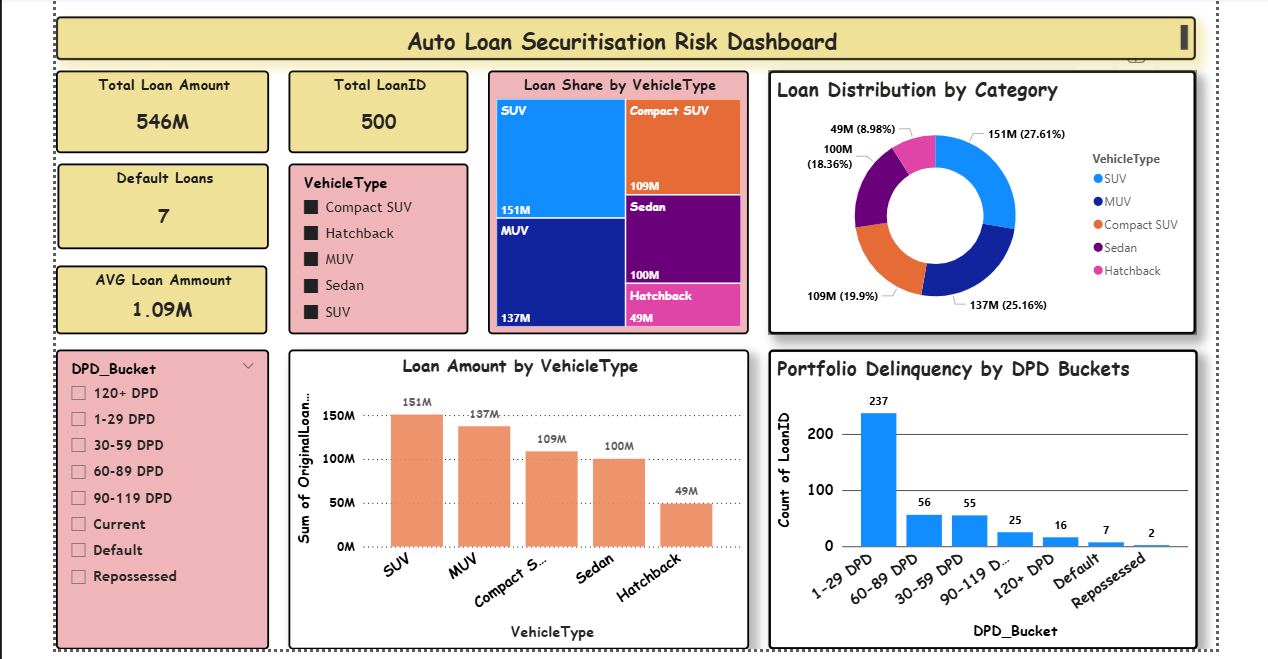

Layout of this report page (visuals, bound fields, positions):
{"tool":"powerbi","page":{"name":"Page 1","canvas":[1280,720],"ordinal":0},"visuals":[{"type":"card","title":"Total Loan Amount","fields":{"Values":["auto_loan_securitisation_data.total_loan_amount"]},"box":[0,81.2,235.2,91.1],"z":0},{"type":"card","title":"Total LoanID","fields":{"Values":["CountNonNull(auto_loan_securitisation_data.LoanID)"]},"box":[256.8,81.2,198.8,91.1],"z":1000},{"type":"clusteredColumnChart","title":"Portfolio Delinquency by DPD Buckets","fields":{"Y":["Count(dpd_snapshot_history.LoanID)"],"Category":["dpd_snapshot_history.DPD_Bucket"]},"box":[786.8,389.3,473.8,331.3],"z":2000},{"type":"donutChart","title":"Loan Distribution by Category","fields":{"Category":["auto_loan_securitisation_data.VehicleType"],"Y":["auto_loan_securitisation_data.total_loan_amount"]},"box":[786.8,81.2,472.1,291.5],"z":3000},{"type":"textbox","box":[0,21.5,1258.9,48],"z":4000},{"type":"card","title":"AVG  Loan Ammount","fields":{"Values":["Avg(auto_loan_securitisation_data.OriginalLoanAmount)"]},"box":[0,296.5,233.6,76.2],"z":5000},{"type":"card","title":"Default Loans","fields":{"Values":["auto_loan_securitisation_data.defaultloan"]},"box":[1.7,183.9,233.6,94.4],"z":6000},{"type":"slicer","fields":{"Values":["auto_loan_securitisation_data.VehicleType"]},"box":[256.8,183.9,198.8,188.8],"z":6001},{"type":"slicer","fields":{"Values":["dpd_snapshot_history.DPD_Bucket"]},"box":[0,389.3,235.2,331.3],"z":6002},{"type":"clusteredColumnChart","title":"Loan Amount by VehicleType","fields":{"Category":["auto_loan_securitisation_data.VehicleType"],"Y":["Sum(auto_loan_securitisation_data.OriginalLoanAmount)"]},"box":[256.8,389.3,508.5,331.3],"z":6003},{"type":"treemap","title":"Loan Share by VehicleType","fields":{"Group":["auto_loan_securitisation_data.VehicleType"],"Values":["Sum(auto_loan_securitisation_data.OriginalLoanAmount)"]},"box":[477.1,81.2,288.2,291.5],"z":6004}]}

Visuals, with their boxes in screenshot pixels (x1, y1, x2, y2):
"Total Loan Amount" card: [left=53, top=67, right=266, bottom=149]
"Total LoanID" card: [left=285, top=67, right=465, bottom=149]
"Portfolio Delinquency by DPD Buckets" clusteredColumnChart: [left=765, top=346, right=1193, bottom=645]
"Loan Distribution by Category" donutChart: [left=765, top=67, right=1192, bottom=331]
textbox: [left=53, top=13, right=1192, bottom=56]
"AVG  Loan Ammount" card: [left=53, top=262, right=264, bottom=331]
"Default Loans" card: [left=54, top=160, right=266, bottom=245]
slicer - auto_loan_securitisation_data.VehicleType: [left=285, top=160, right=465, bottom=331]
slicer - dpd_snapshot_history.DPD_Bucket: [left=53, top=346, right=266, bottom=645]
"Loan Amount by VehicleType" clusteredColumnChart: [left=285, top=346, right=745, bottom=645]
"Loan Share by VehicleType" treemap: [left=484, top=67, right=745, bottom=331]
